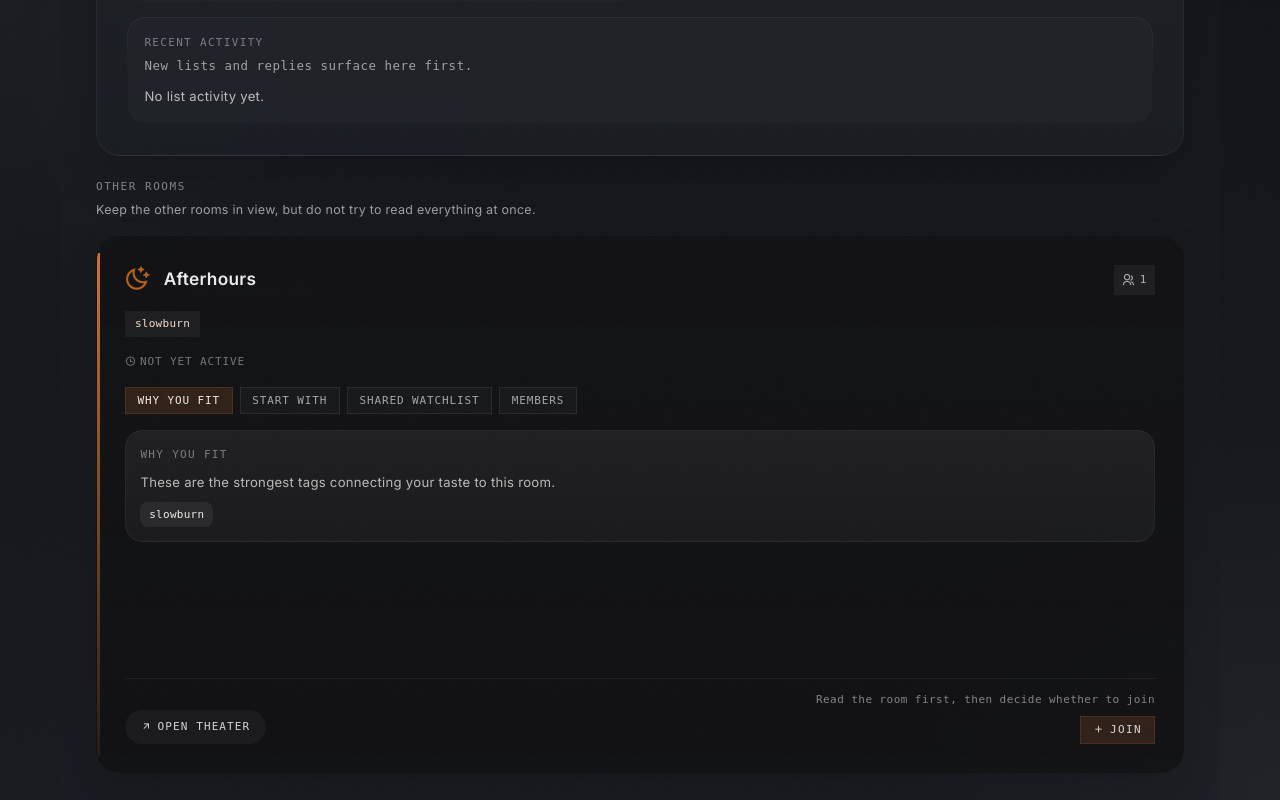
Test case: TheatersPage › switches library card detail panels without rendering all sections at once
(page scrolled)
Expected: the text "Chungking Express" is not shown
Click the tab "Start With" at (290, 401), box x1=240 y1=387 x2=340 y2=414
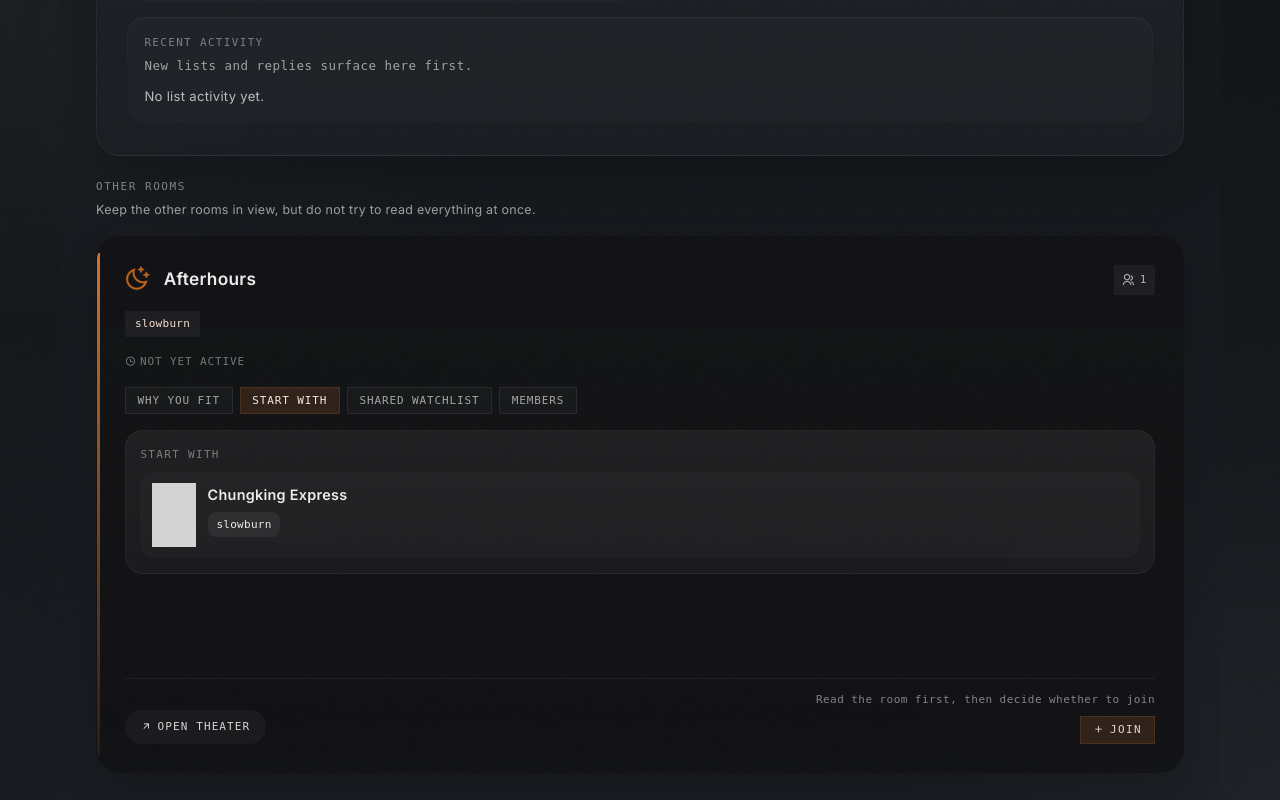
Now the text "Chungking Express" is shown, box x1=208 y1=486 x2=347 y2=503
Click the tab "Shared Watchlist" at (420, 401), box x1=347 y1=387 x2=492 y2=414
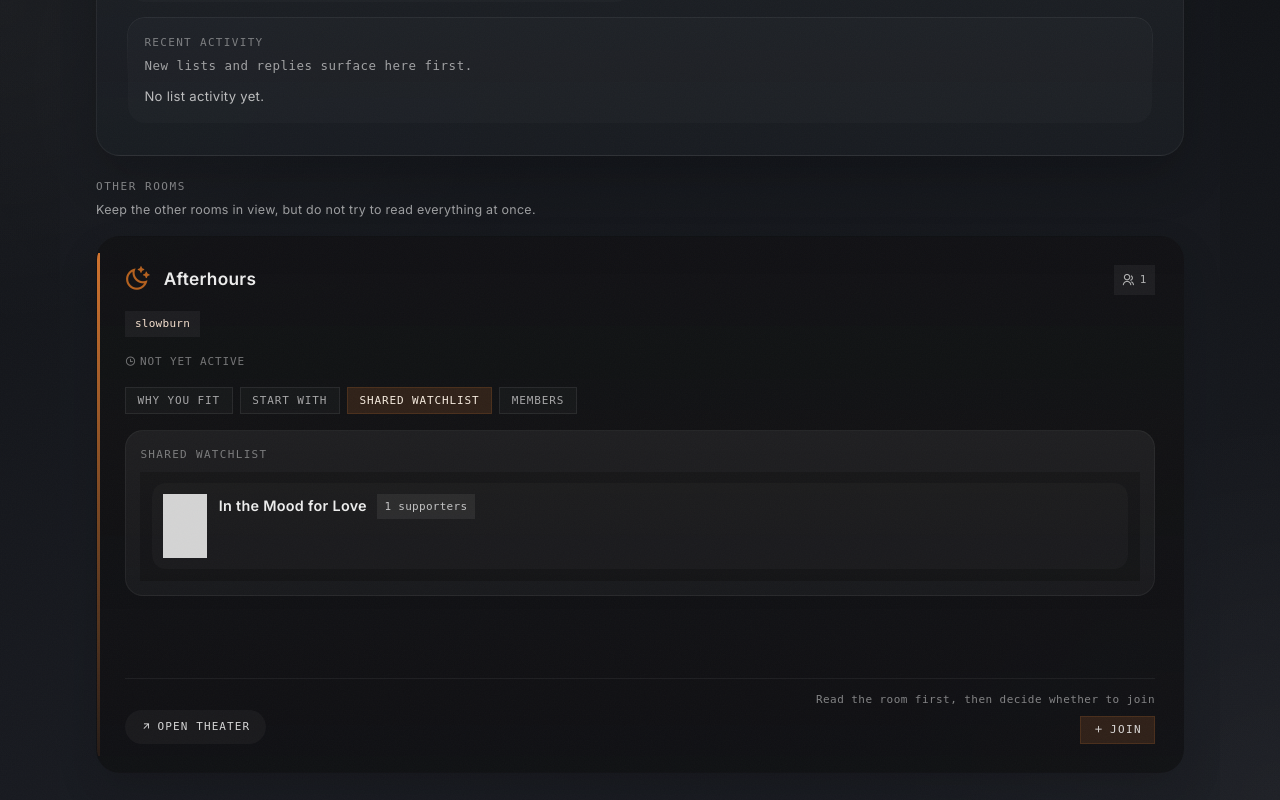
Now the text "In the Mood for Love" is shown, box x1=219 y1=494 x2=367 y2=517
Now the text "Chungking Express" is gone
Click the tab "Members" at (538, 401), box x1=499 y1=387 x2=577 y2=414
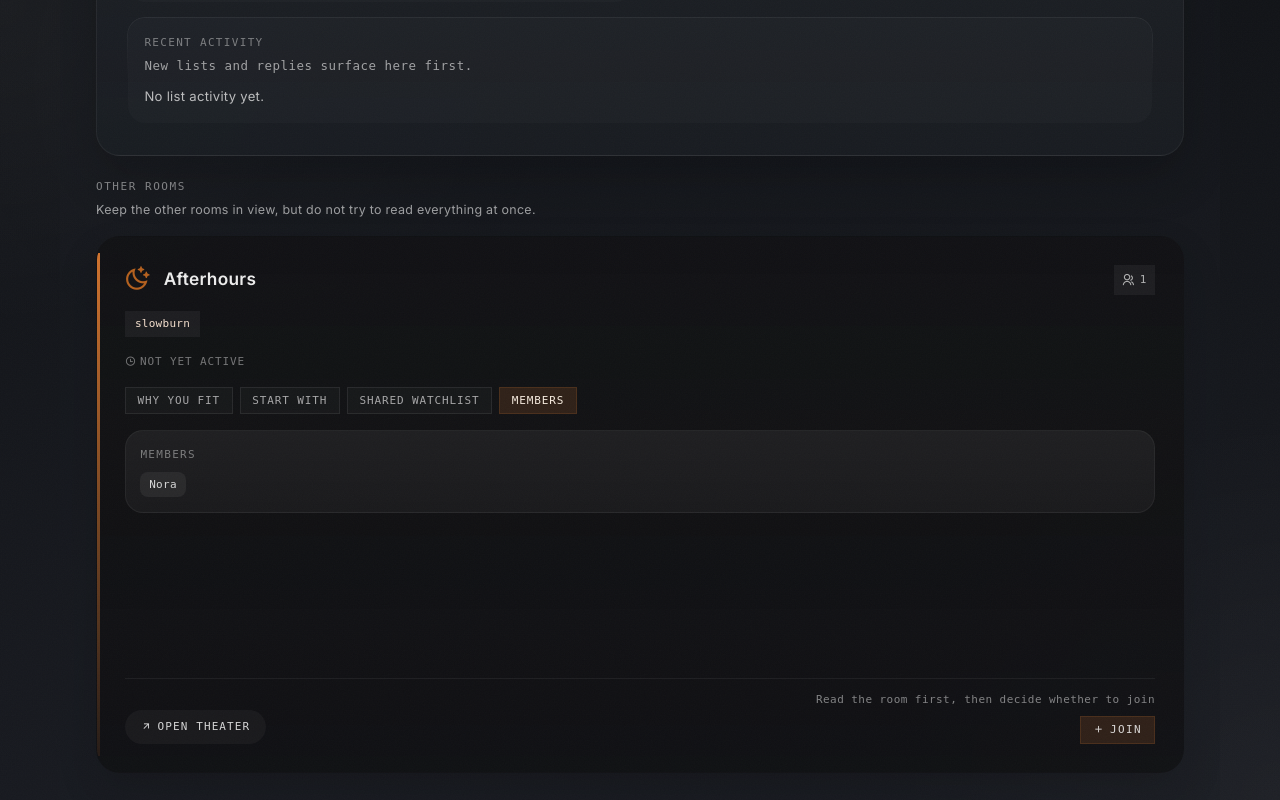
Now the text "Nora" is shown, box x1=140 y1=472 x2=186 y2=497
Now the text "In the Mood for Love" is gone
